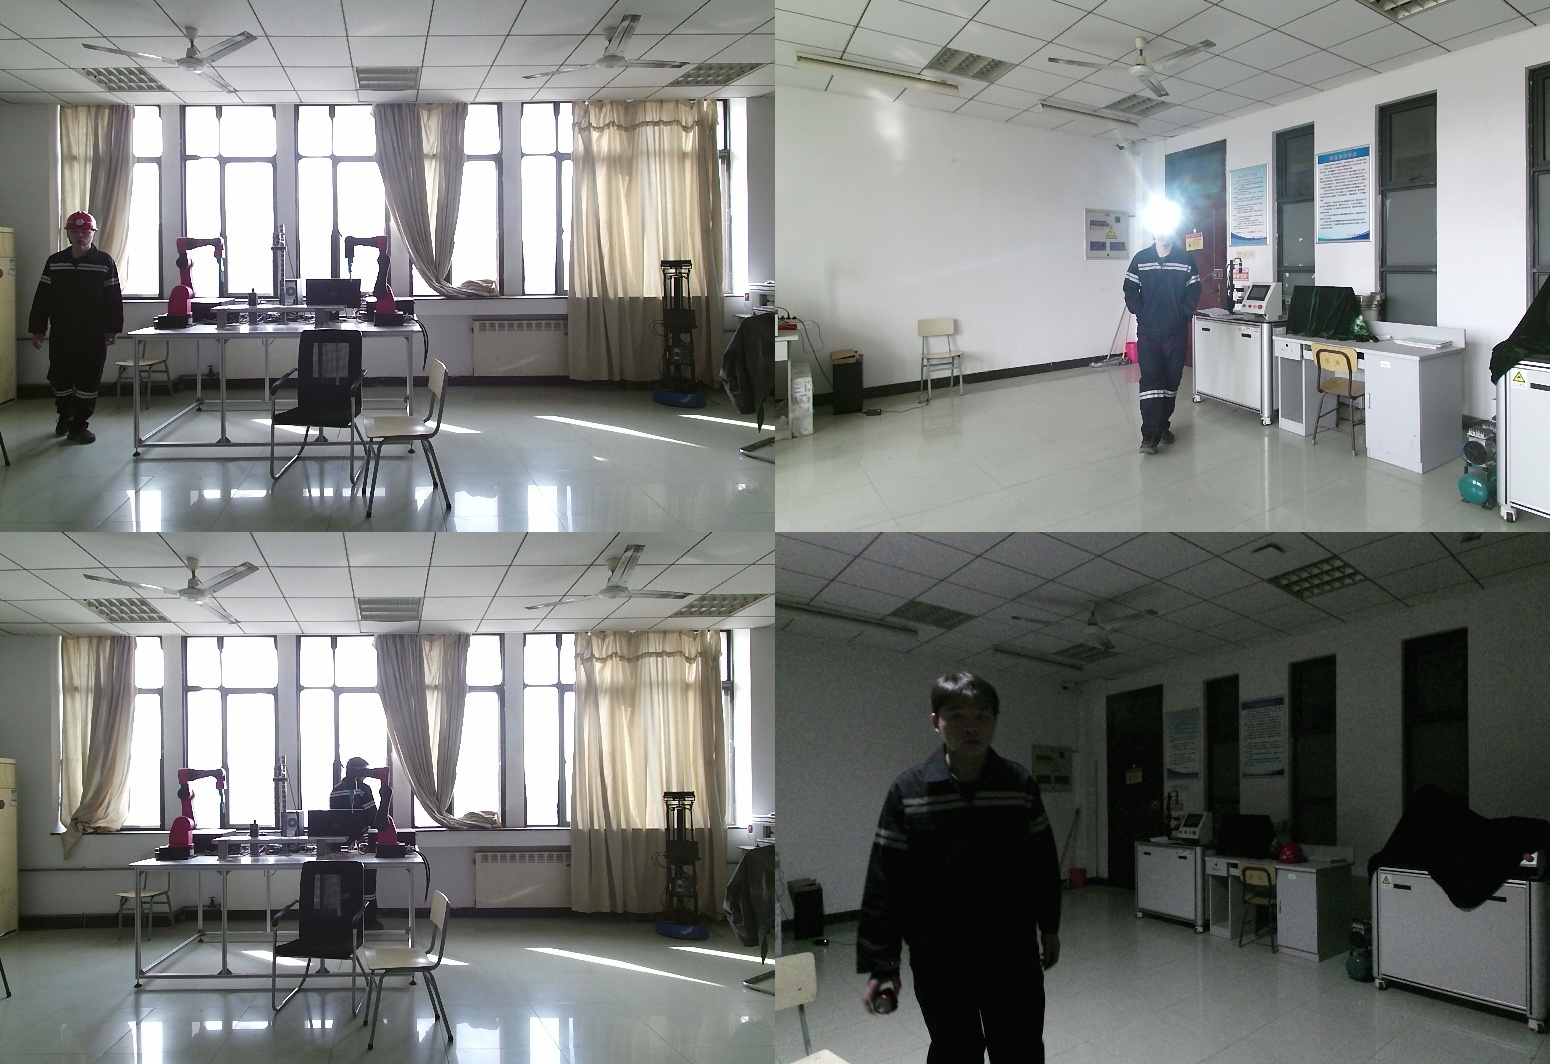person: (858, 673, 1073, 1064), (29, 212, 126, 445), (1125, 217, 1210, 452), (332, 758, 392, 935)
